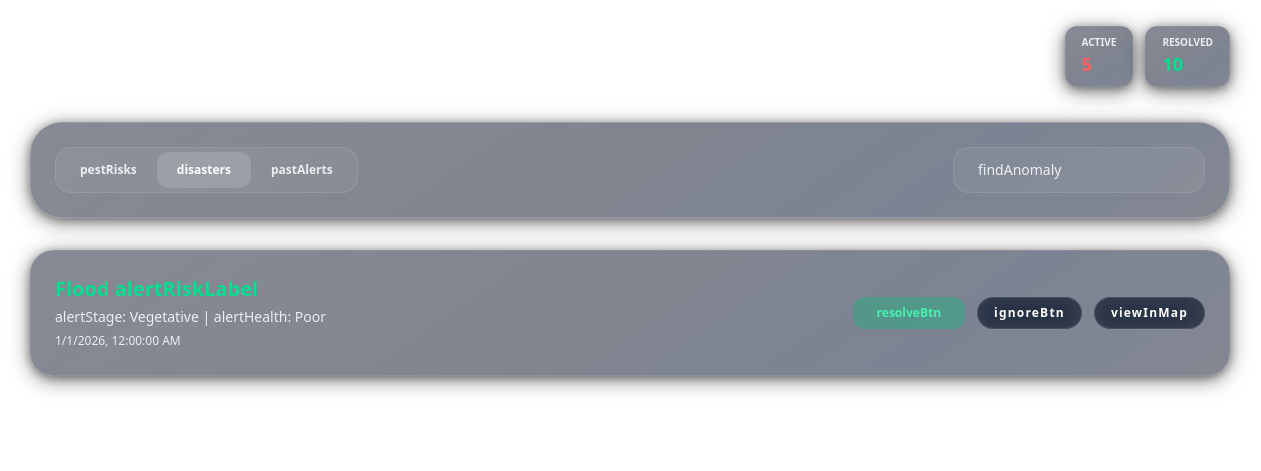
Alerts Component › ignores an alert using optimistic UI updates
Expected: the heading "Flood alertRiskLabel" is shown, [55,275,258,302]
# Click Ignore
Click the button "ignoreBtn": point(1029, 313) [977,297,1082,329]
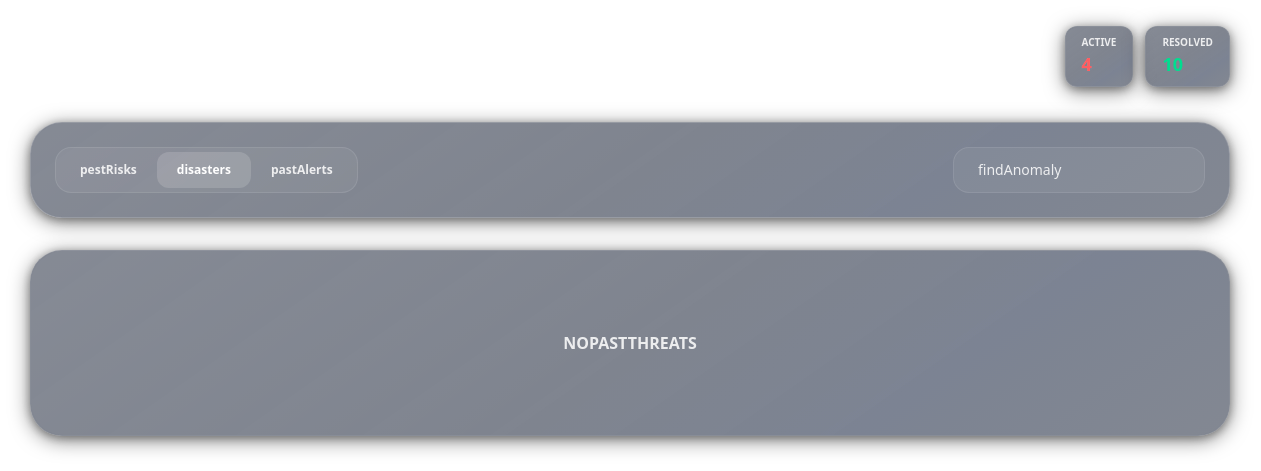
Expected: the text "4" is shown, [1082,52,1092,76]
Now the heading "Flood alertRiskLabel" is gone
